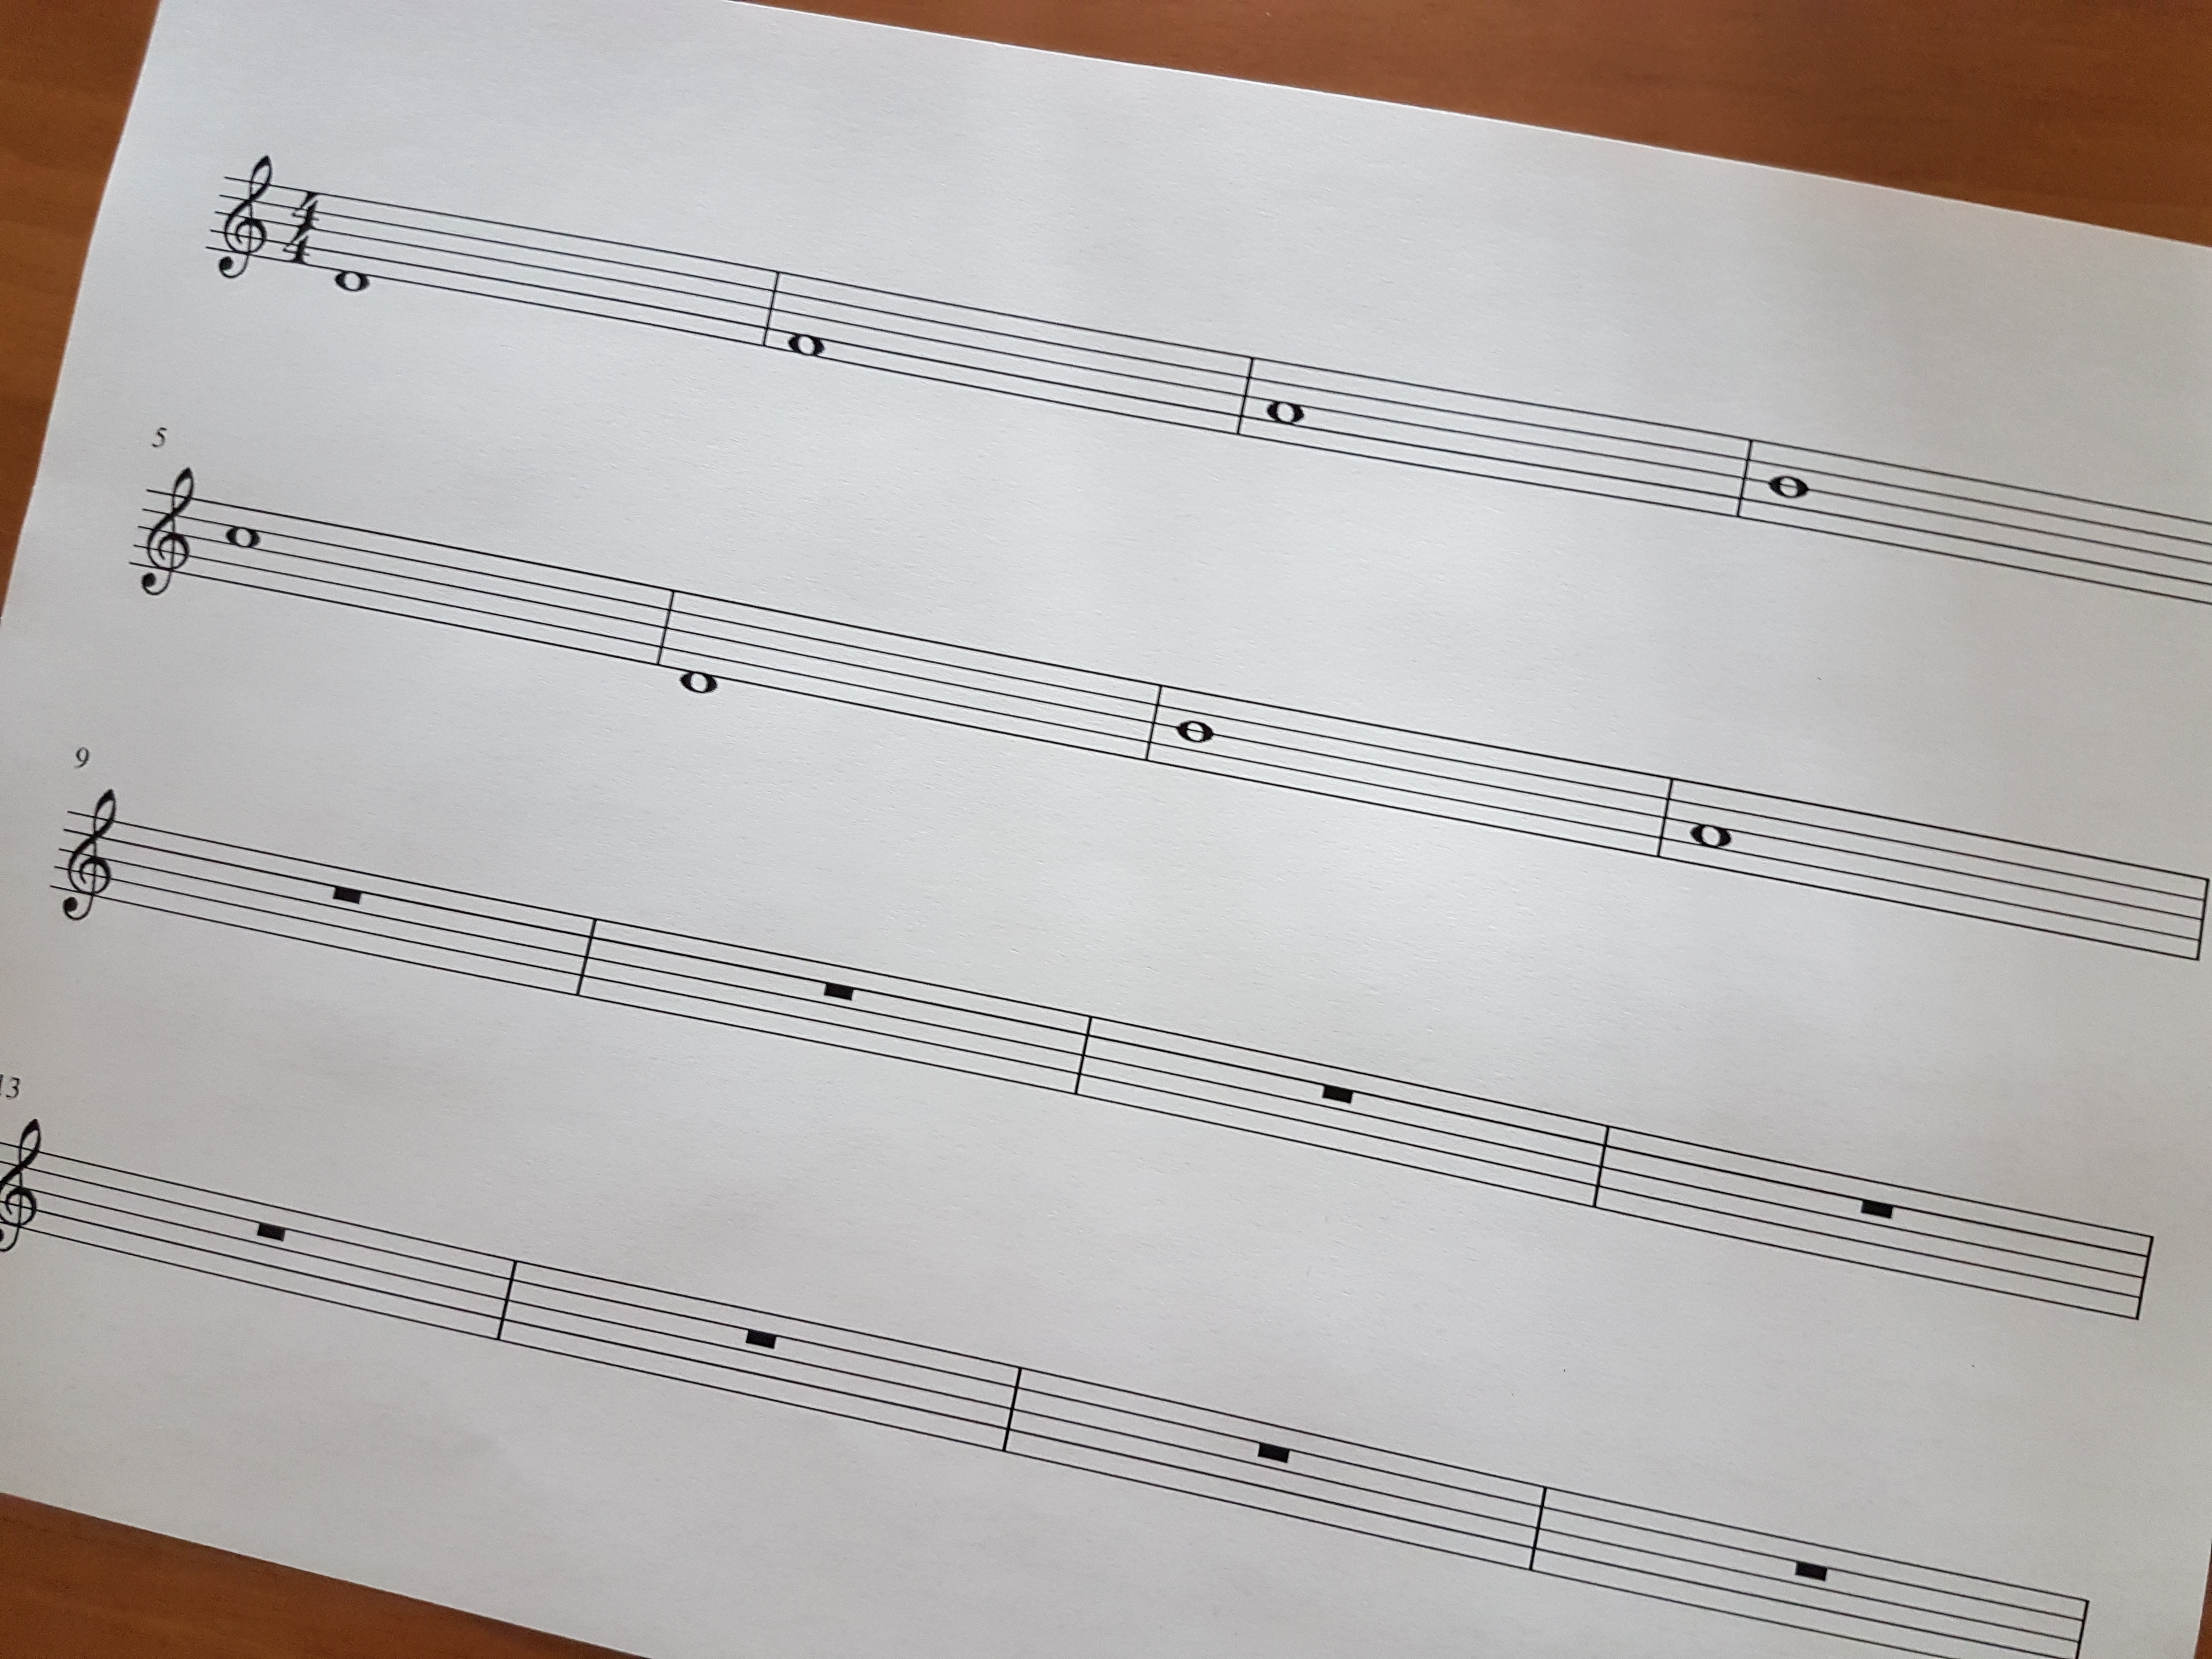key: (209, 134, 279, 307), (56, 775, 125, 938), (134, 457, 200, 620)
pipe: (1519, 1466, 1552, 1596), (568, 894, 601, 1016), (995, 1349, 1026, 1473), (1585, 1103, 1615, 1230), (1728, 411, 1757, 537), (489, 1243, 521, 1361), (1228, 340, 1259, 457), (1069, 990, 1097, 1117), (650, 572, 679, 688), (1139, 667, 1165, 788), (754, 254, 782, 366)
semibreve_a: (1683, 744, 1738, 903), (1259, 326, 1312, 486)
semibreve_c: (214, 465, 268, 627)
semibreve_d: (676, 565, 723, 737), (329, 178, 378, 333)
semibreve_f: (782, 251, 833, 408)
semibreve_h: (1759, 387, 1815, 563), (1167, 657, 1224, 805)
